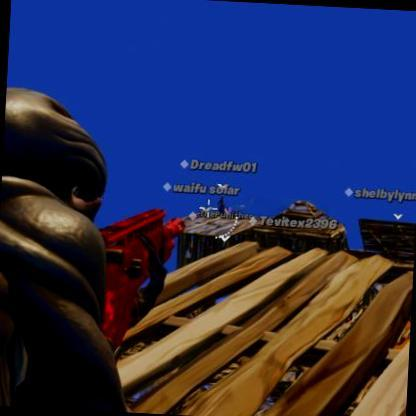person: (216, 192, 227, 215)
